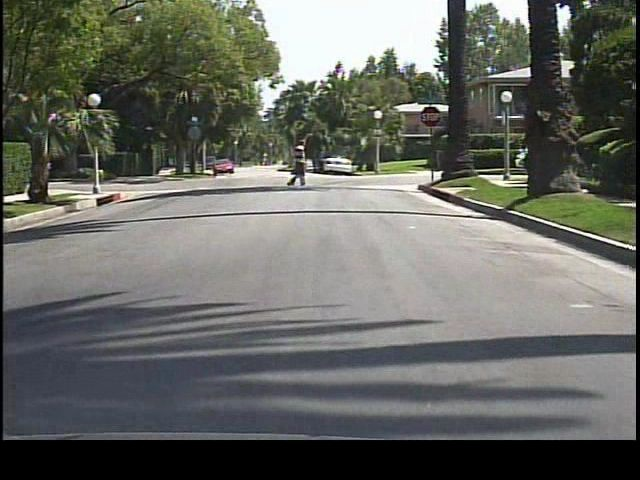person: (288, 139, 311, 189)
